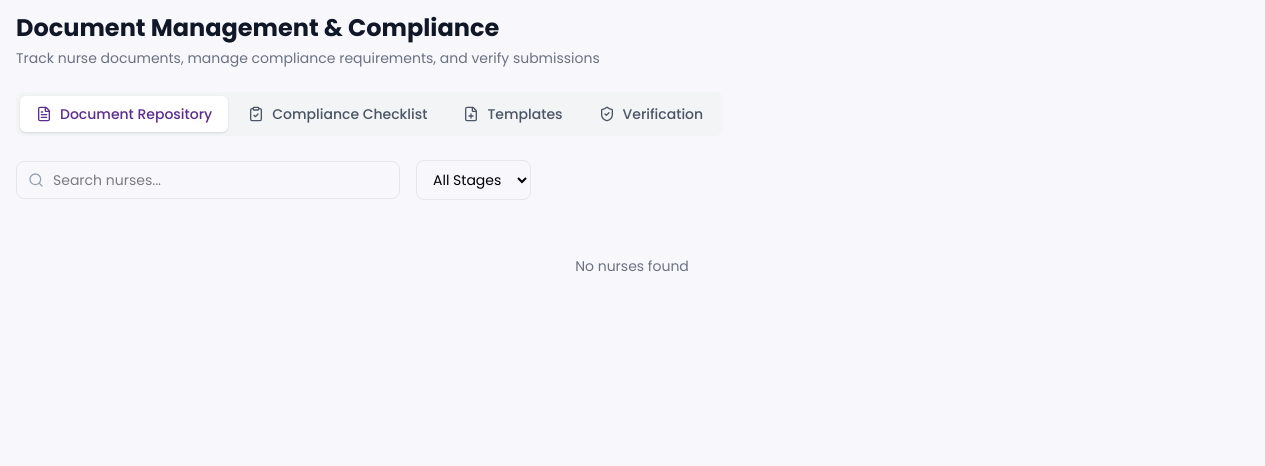
Workflow integration tests › Document verification workflow › shows empty state when no documents are pending verification
# Navigate to Verification tab
Click the button "Verification" at (651, 114), box [582,96,719,132]
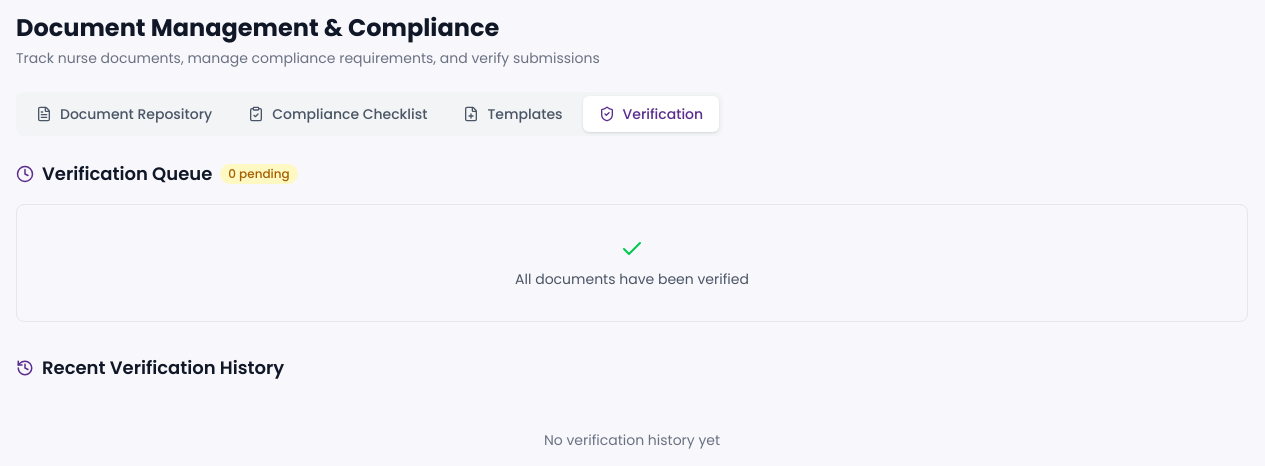
Expected: the text "All documents have been verified" is shown, [515,269,749,289]
